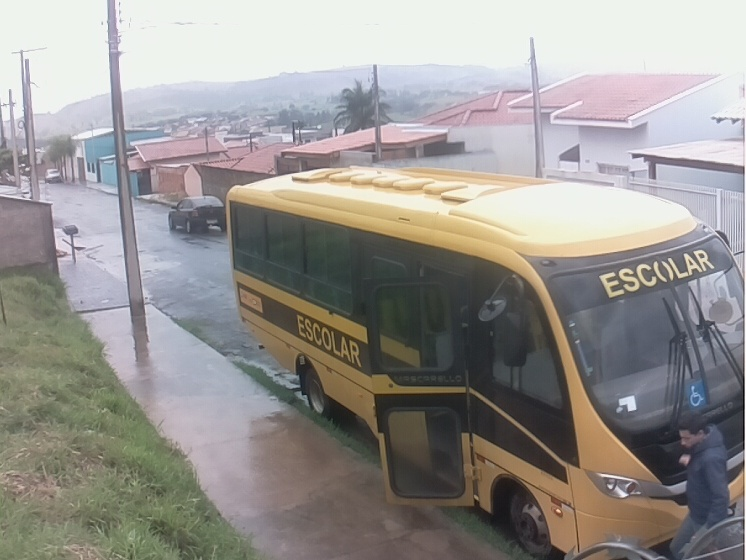person: (667, 410, 731, 553)
